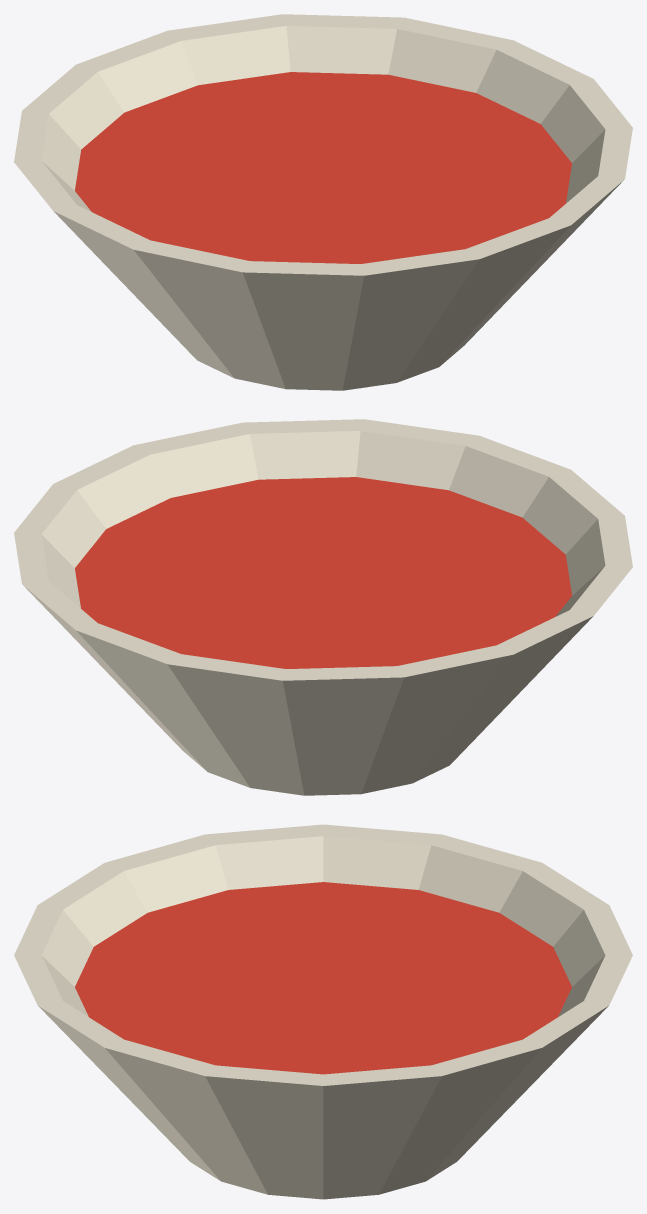
File: TomatoSauce.fbx
3 renders of one model, top to bottom at view 1: azimuth 30°, elevation 25°; view 2: azimuth 150°, elevation 25°; view 3: azimuth 270°, elevation 25°, orthographic.
Parts seen in each view (by area): view 1: Plane.001; view 2: Plane.001; view 3: Plane.001.
Boxes of the visible parts, box(x1,y1,x2,y2) form: Plane.001: box(14, 14, 632, 390); Plane.001: box(14, 419, 632, 795); Plane.001: box(14, 824, 632, 1199).
Size of the model in its own units: 47.8 by 47.8 by 15.6.
